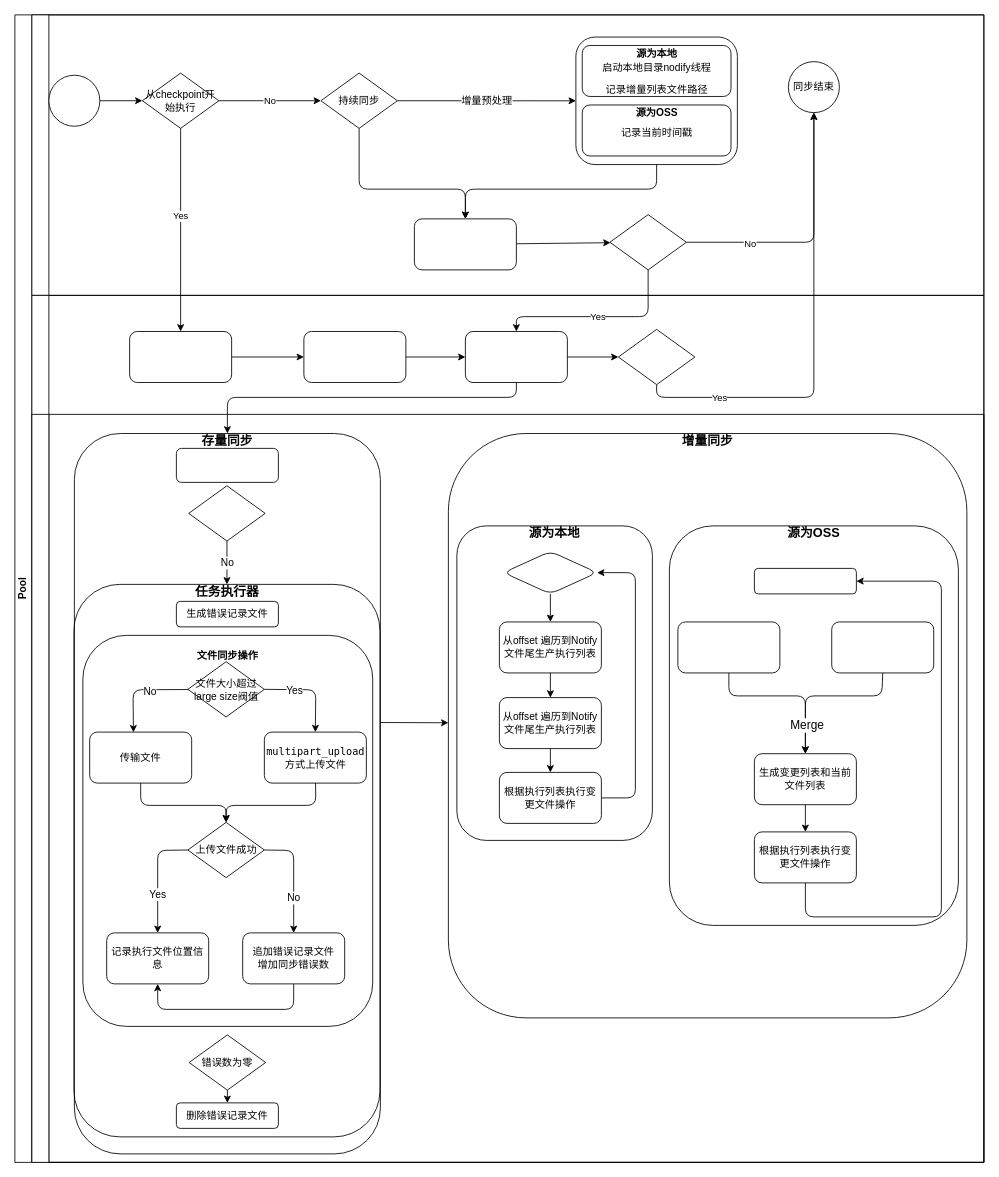
The diagram is 999 pixels wide and 1177 high, and some of its shapes have lost their labels. Each missing label, with the centre of its shape:
"Notify 文件长度大于执行offset" belongs at point 550,572.
"启动任务状态监听器" belongs at point 516,356.
"处理错误记录" belongs at point 180,356.
"开始同步" belongs at point 74,100.
"文件生成成功" belongs at point 647,242.
"根据checkpoint定位文件offset" belongs at point 354,356.
"根据增量预处理记录的时间戳确定新增文件" belongs at point 882,647.
"根据已执行的文件列表确定删除的文件" belongs at point 728,647.
"检查同步错误数量是否到达上限" belongs at point 656,357.
"生成对象列表文件" belongs at point 465,244.
"记录时间戳" belongs at point 805,581.
"遍历对象列表按批次生成多线程同步任务" belongs at point 227,465.
"错误数到达上限" belongs at point 226,513.
